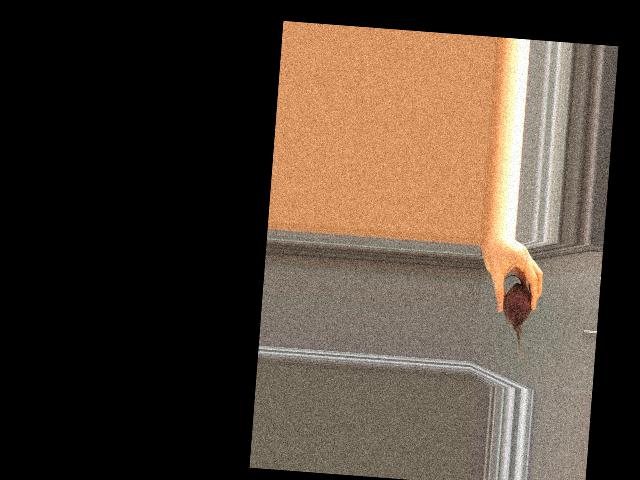beet: (498, 275, 532, 364)
